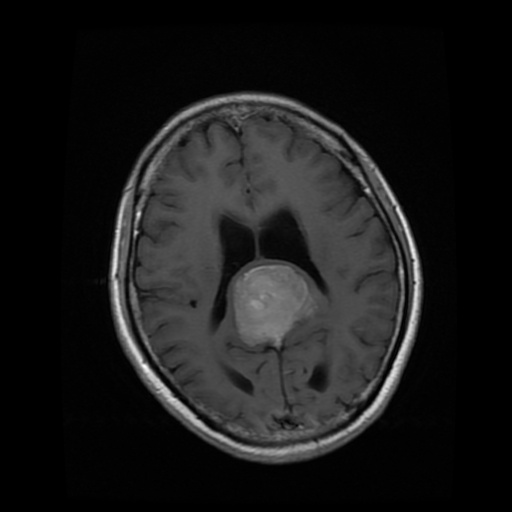meningioma: (232, 264, 317, 347)
